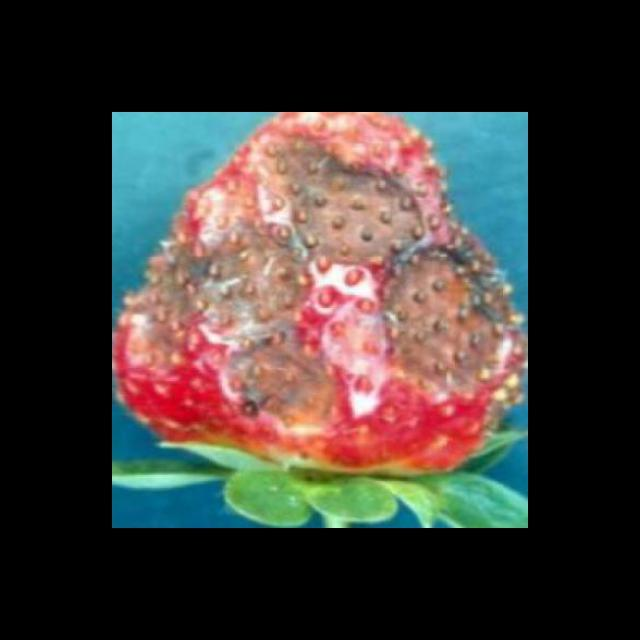Anthracnose Fruit Rot: (112, 125, 528, 440)
